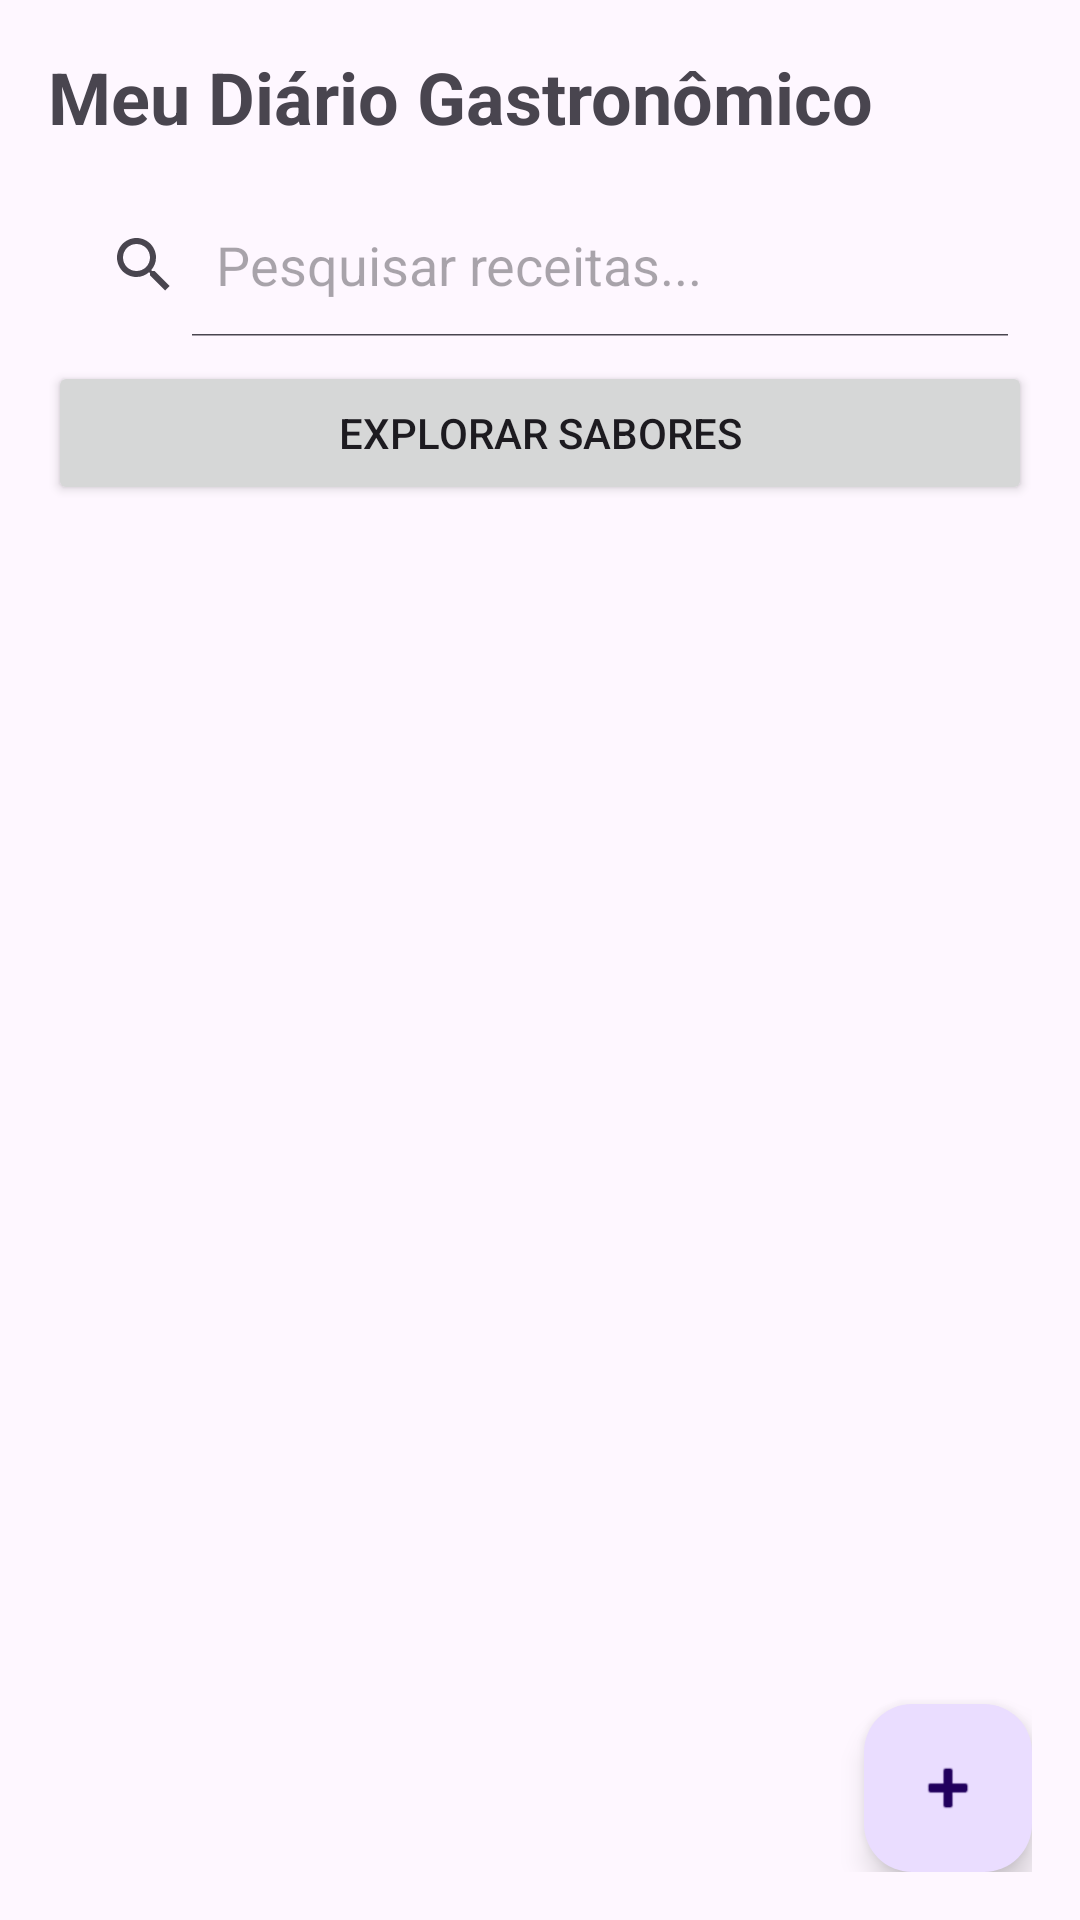

Icon bounding boxes for this 1080px×1920px phone screenshot, format (x1, y1, x2, y2):
Adicionar Receita: (864, 1704, 1032, 1872)
